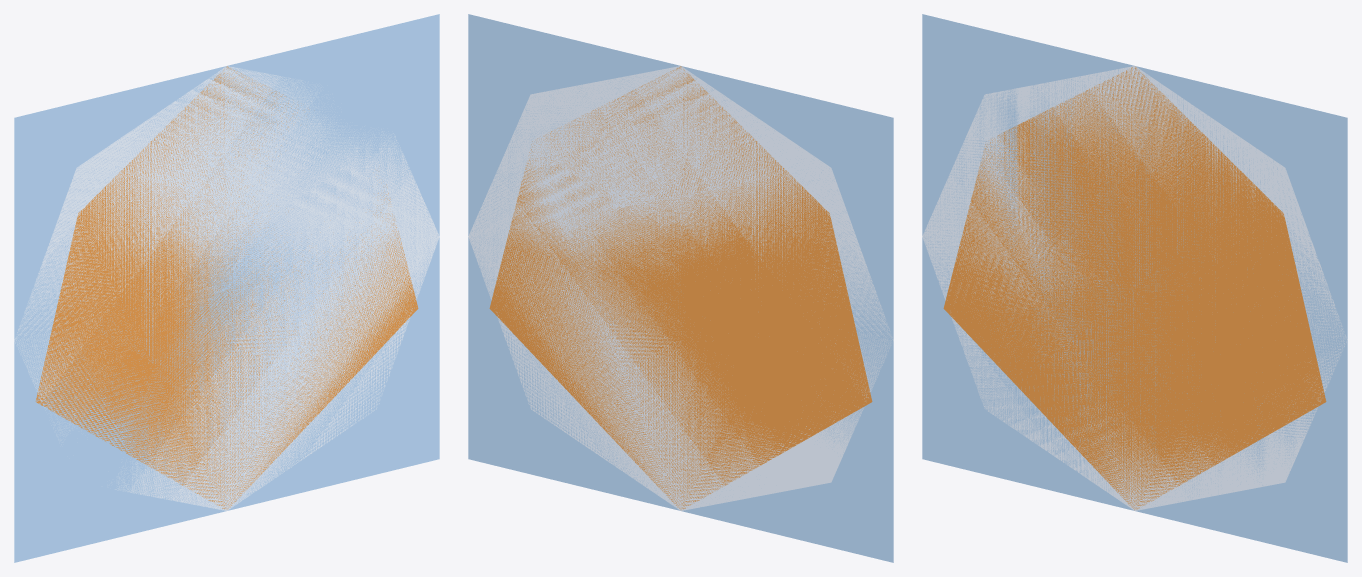
File: window-weather.glb
3 views of the same model, side by side, from view 1: azimuth 30°, elevation 25°; view 2: azimuth 150°, elevation 25°; view 3: azimuth 330°, elevation 25° (orthographic).
Visible parts, largest first — view 1: rain 0, snow 0, rain 1, leaves 0; view 2: snow 0, leaves 0, rain 0, rain 1; view 3: leaves 0, rain 0, rain 1, snow 0.
Boxes of the visible parts, box(x1,y1,x2,y2) form: rain 0: box(14, 14, 439, 562); snow 0: box(14, 66, 439, 510); rain 1: box(15, 15, 438, 561); leaves 0: box(35, 66, 418, 509); snow 0: box(468, 66, 893, 510); leaves 0: box(489, 66, 872, 509); rain 0: box(468, 14, 893, 562); rain 1: box(469, 15, 892, 561); leaves 0: box(943, 67, 1326, 509); rain 0: box(922, 14, 1347, 562); rain 1: box(923, 15, 1346, 561); snow 0: box(922, 66, 1347, 510).
Size of the model in its own units: 1e-05 by 1e-05 by 0.
